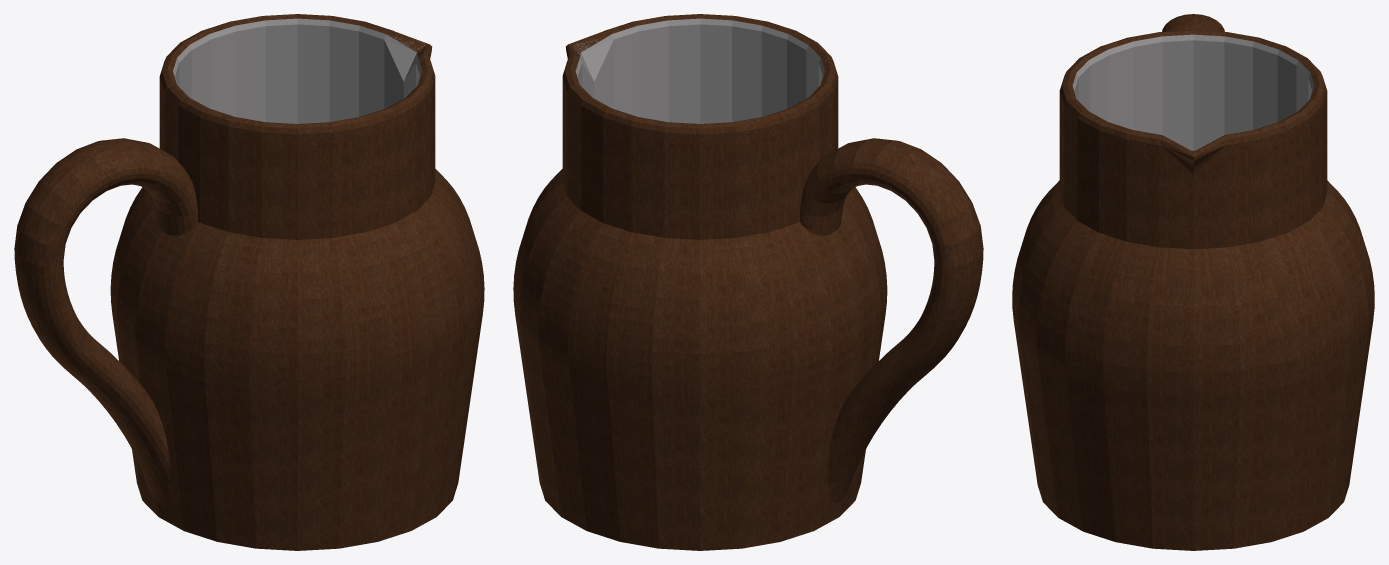
The picture shows the model from 3 angles, left to right: view 1: azimuth 30°, elevation 25°; view 2: azimuth 150°, elevation 25°; view 3: azimuth 270°, elevation 25°; orthographic projection. The views are drawn at different scales.
Parts seen in each view (by area): view 1: mesh1_mesh1-geometry; view 2: mesh1_mesh1-geometry; view 3: mesh1_mesh1-geometry.
Part boxes in pixels (x1,y1,x2,y2): mesh1_mesh1-geometry: [14, 14, 484, 550]; mesh1_mesh1-geometry: [513, 14, 983, 550]; mesh1_mesh1-geometry: [1012, 14, 1374, 550].
Bounding box in the file's own units: 0.6514 × 0.587 × 0.4807.
3 materials, 2 textured.
